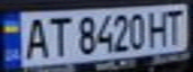0: (127, 10, 148, 49)
2: (112, 11, 133, 53)
4: (93, 11, 115, 54)
8: (75, 12, 96, 55)
A: (18, 14, 51, 61)
H: (145, 7, 172, 47)
T: (42, 14, 72, 58), (163, 6, 187, 46)
